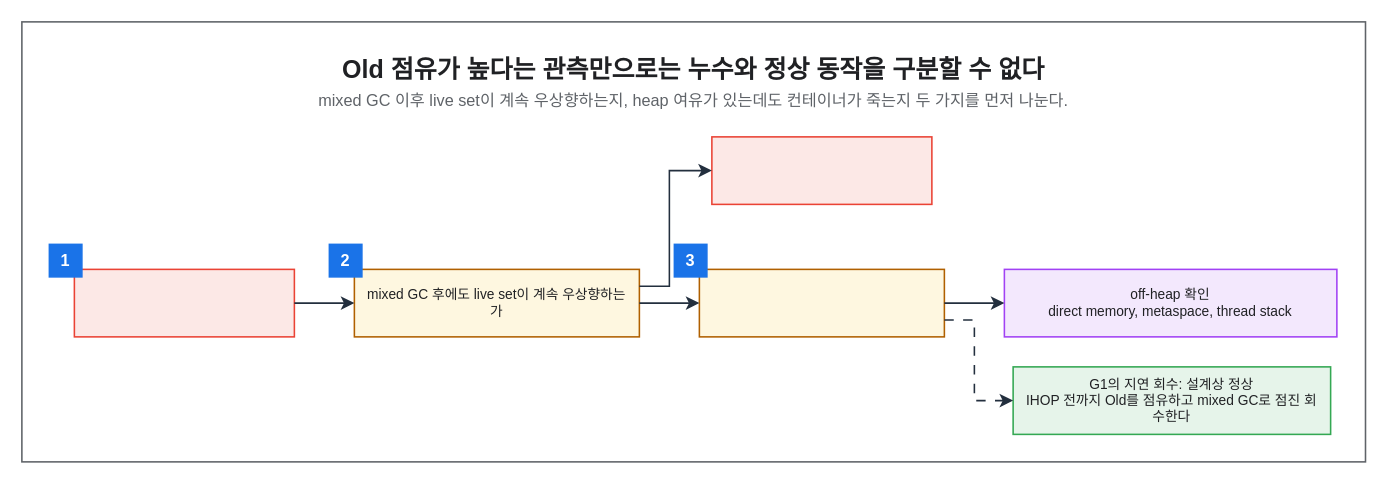
Some shapes in this 1389 by 485 pixel diagram are drawn without their labels. The box of each missing label's shape, as (x1, y1, x2, y2) in pixels:
heap은 여유인데 컨테이너가 OOMKill되는가: (698, 268, 945, 337)
Old generation이 높게 유지됨 컨테이너 메모리 압박: (73, 268, 295, 337)
메모리 누수 의심 heap dump로 지배 객체 확인: (710, 136, 932, 205)
